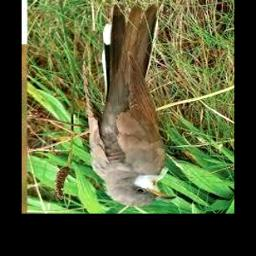Cuckoo: (87, 8, 176, 206)
